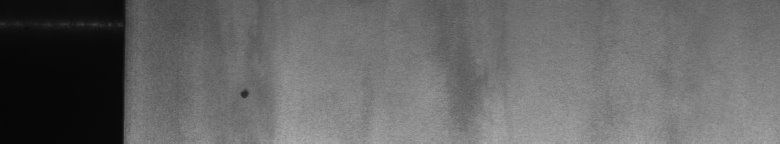fi: (233, 80, 259, 104)
